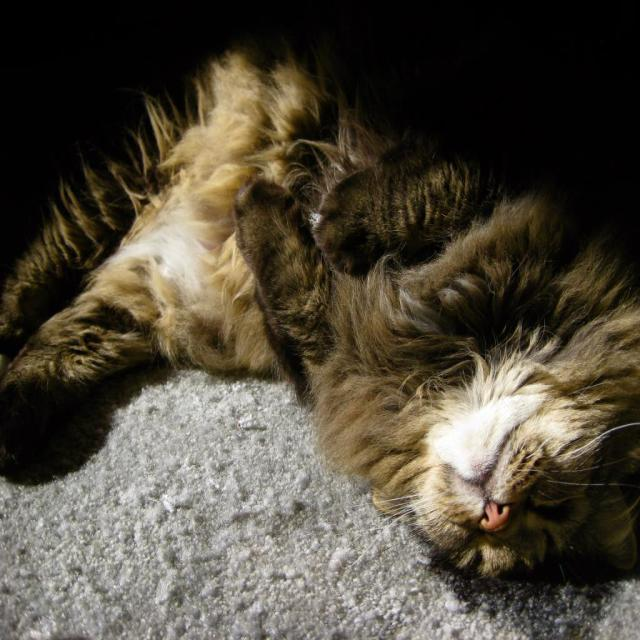Cat: (0, 19, 639, 595)
